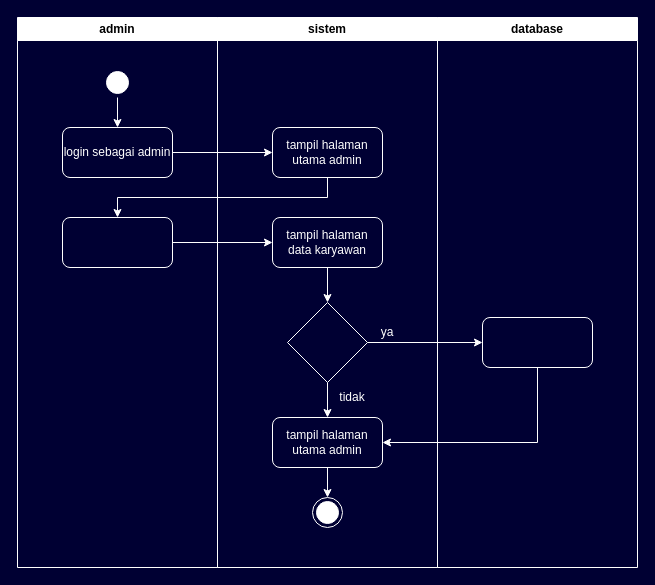
Image size: 655x585. Some labels were removed from this diagram. The box of each missing label's shape, as (x1, y1, x2, y2) in pixels:
data tersimpan: (482, 316, 592, 368)
melihat data karyawan: (62, 216, 172, 268)
merubah data: (286, 302, 368, 382)
